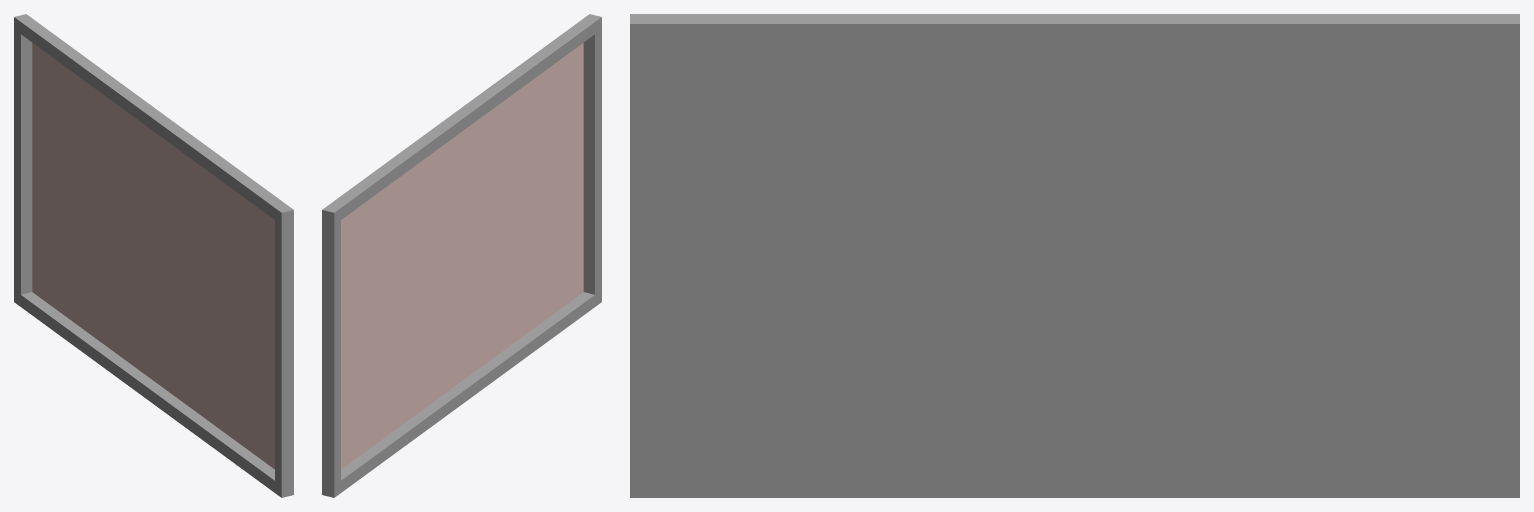
Rendered from Quadro de Parede.fbx.
3 renders of one model, left to right at view 1: azimuth 30°, elevation 25°; view 2: azimuth 150°, elevation 25°; view 3: azimuth 270°, elevation 25°, orthographic. The views are drawn at different scales.
Parts seen in each view (by area): view 1: Cubo.049; view 2: Cubo.049; view 3: Cubo.049.
Part boxes in pixels (<box>): Cubo.049: <box>14,14,293,497</box>; Cubo.049: <box>322,14,601,497</box>; Cubo.049: <box>630,14,1519,497</box>.
Bounding box in the file's own units: 13.27 × 296 × 503.
